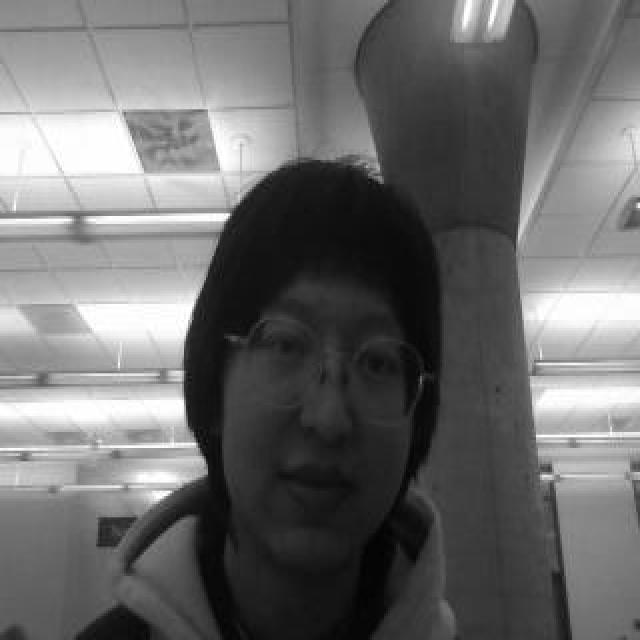Focused: (227, 253, 434, 543)
